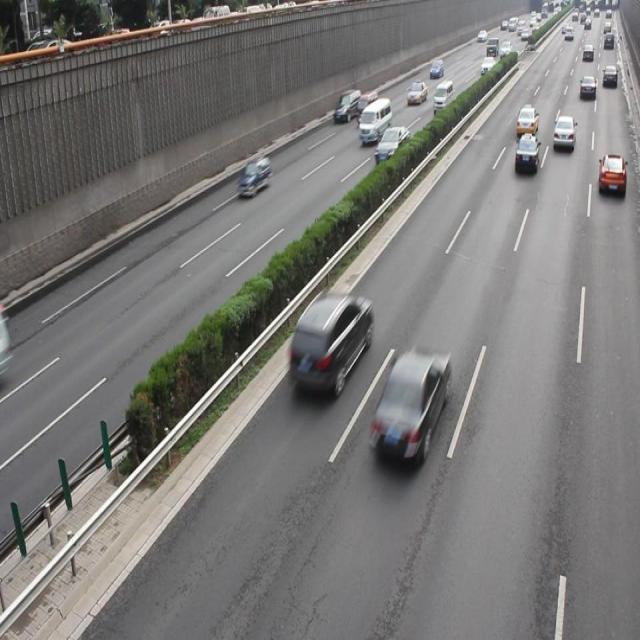car: (370, 344, 449, 465), (289, 289, 372, 396), (374, 126, 409, 164), (597, 153, 626, 198), (239, 154, 270, 196), (514, 134, 538, 174), (552, 115, 575, 150), (515, 105, 538, 137)
truck: (358, 98, 389, 144), (332, 88, 358, 122), (432, 80, 452, 112), (356, 91, 377, 119)
